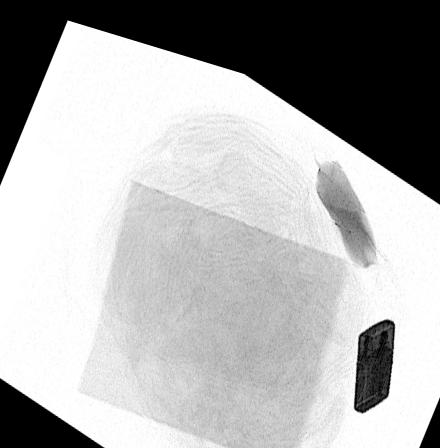Lighter: (354, 293, 395, 392)
